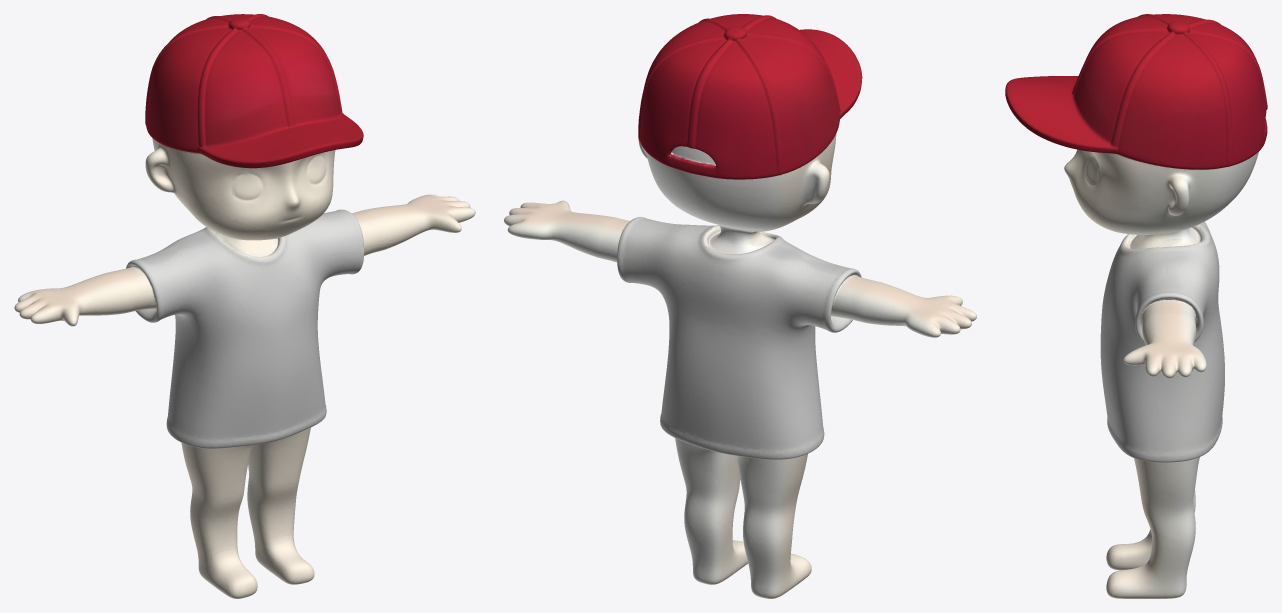
The model's file is baked_nacc_cap.glb.
The picture shows the model from 3 angles, left to right: view 1: azimuth 30°, elevation 25°; view 2: azimuth 150°, elevation 25°; view 3: azimuth 270°, elevation 25°; orthographic projection. The views are drawn at different scales.
Size of the model in its own units: 1.63 by 1.9 by 0.8107.
1 material, 1 textured.
